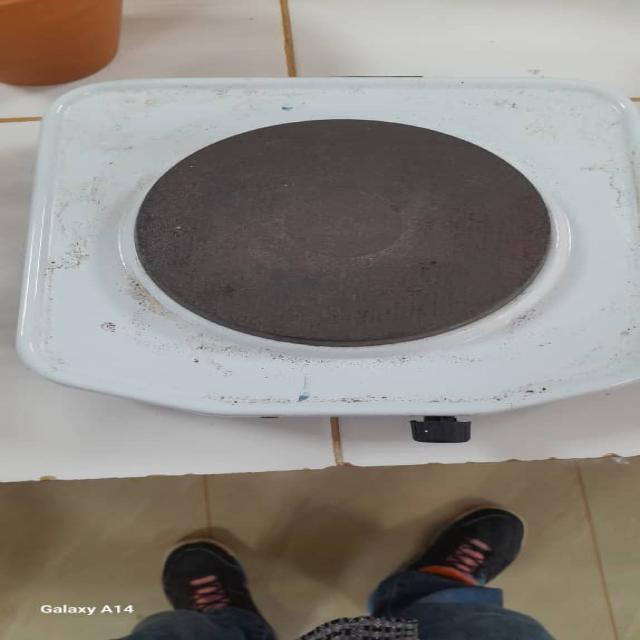Heating Source: (18, 88, 633, 449)
